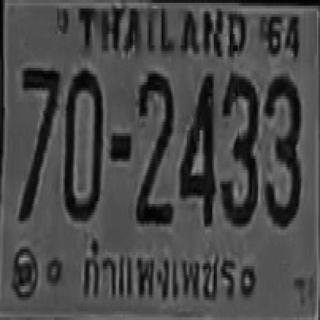N00: (64, 68, 102, 218)
N02: (136, 69, 173, 222)
N03: (220, 71, 258, 224), (263, 74, 300, 224)
N04: (179, 71, 214, 224)
N07: (18, 65, 59, 221)
P16: (77, 236, 240, 304)
